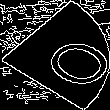O_NW: (8, 22, 102, 88)
